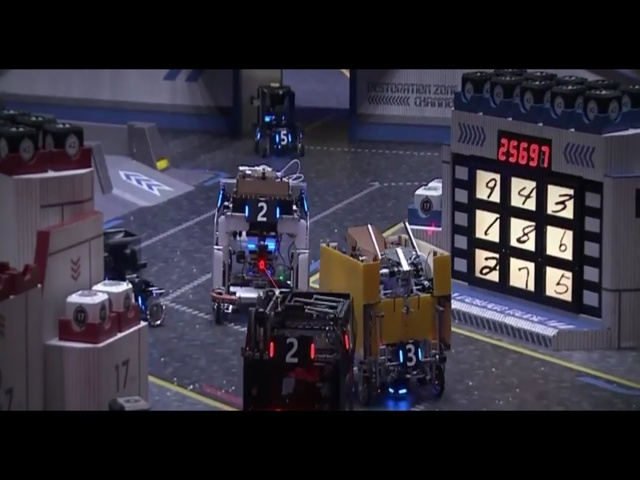bluePlate: (242, 198, 281, 224), (397, 341, 422, 370), (274, 128, 292, 148)
redPlate: (268, 333, 315, 365), (341, 319, 356, 355)
